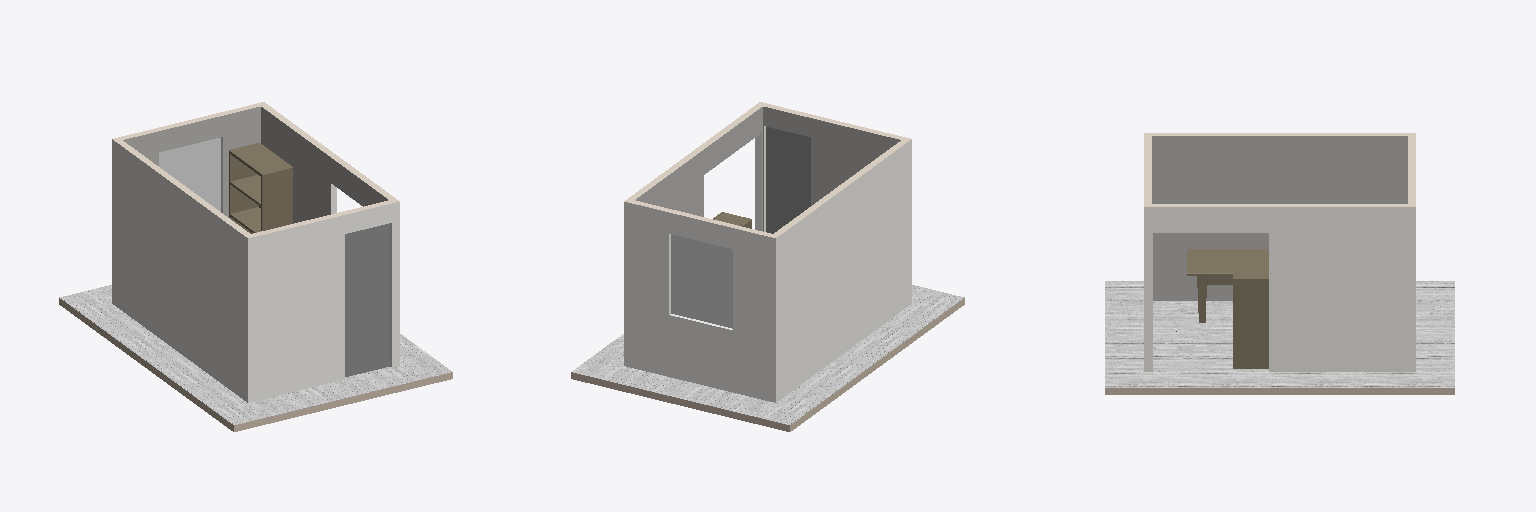
3 views of the same model, side by side, from view 1: azimuth 30°, elevation 25°; view 2: azimuth 150°, elevation 25°; view 3: azimuth 270°, elevation 25° (orthographic).
Bounding box in the file's own units: 3.27 × 2.45 × 4.52.
25 materials, 1 textured.